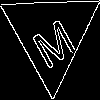M: (26, 9, 78, 71)
